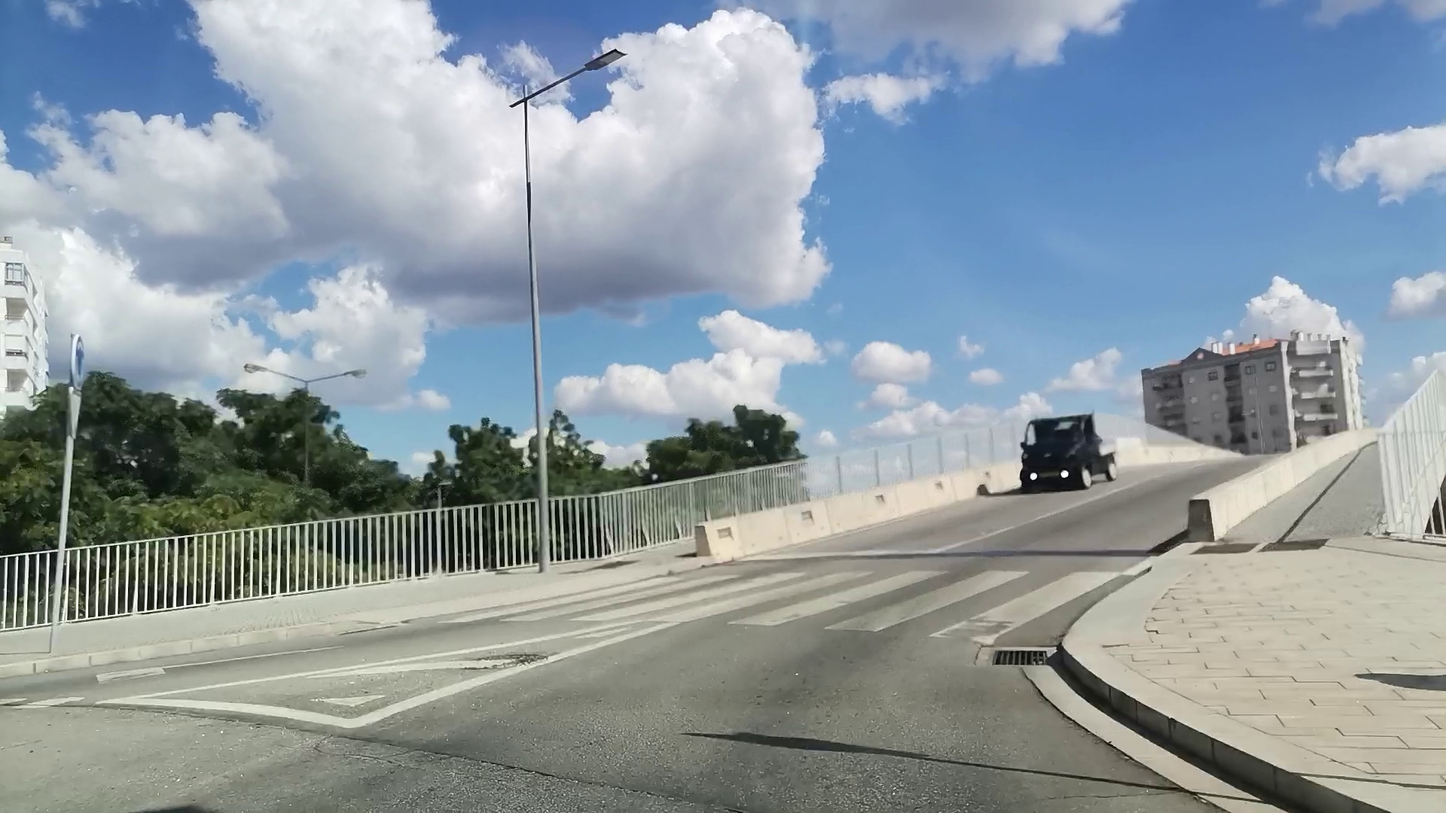Stairs: (442, 568, 1128, 649)
